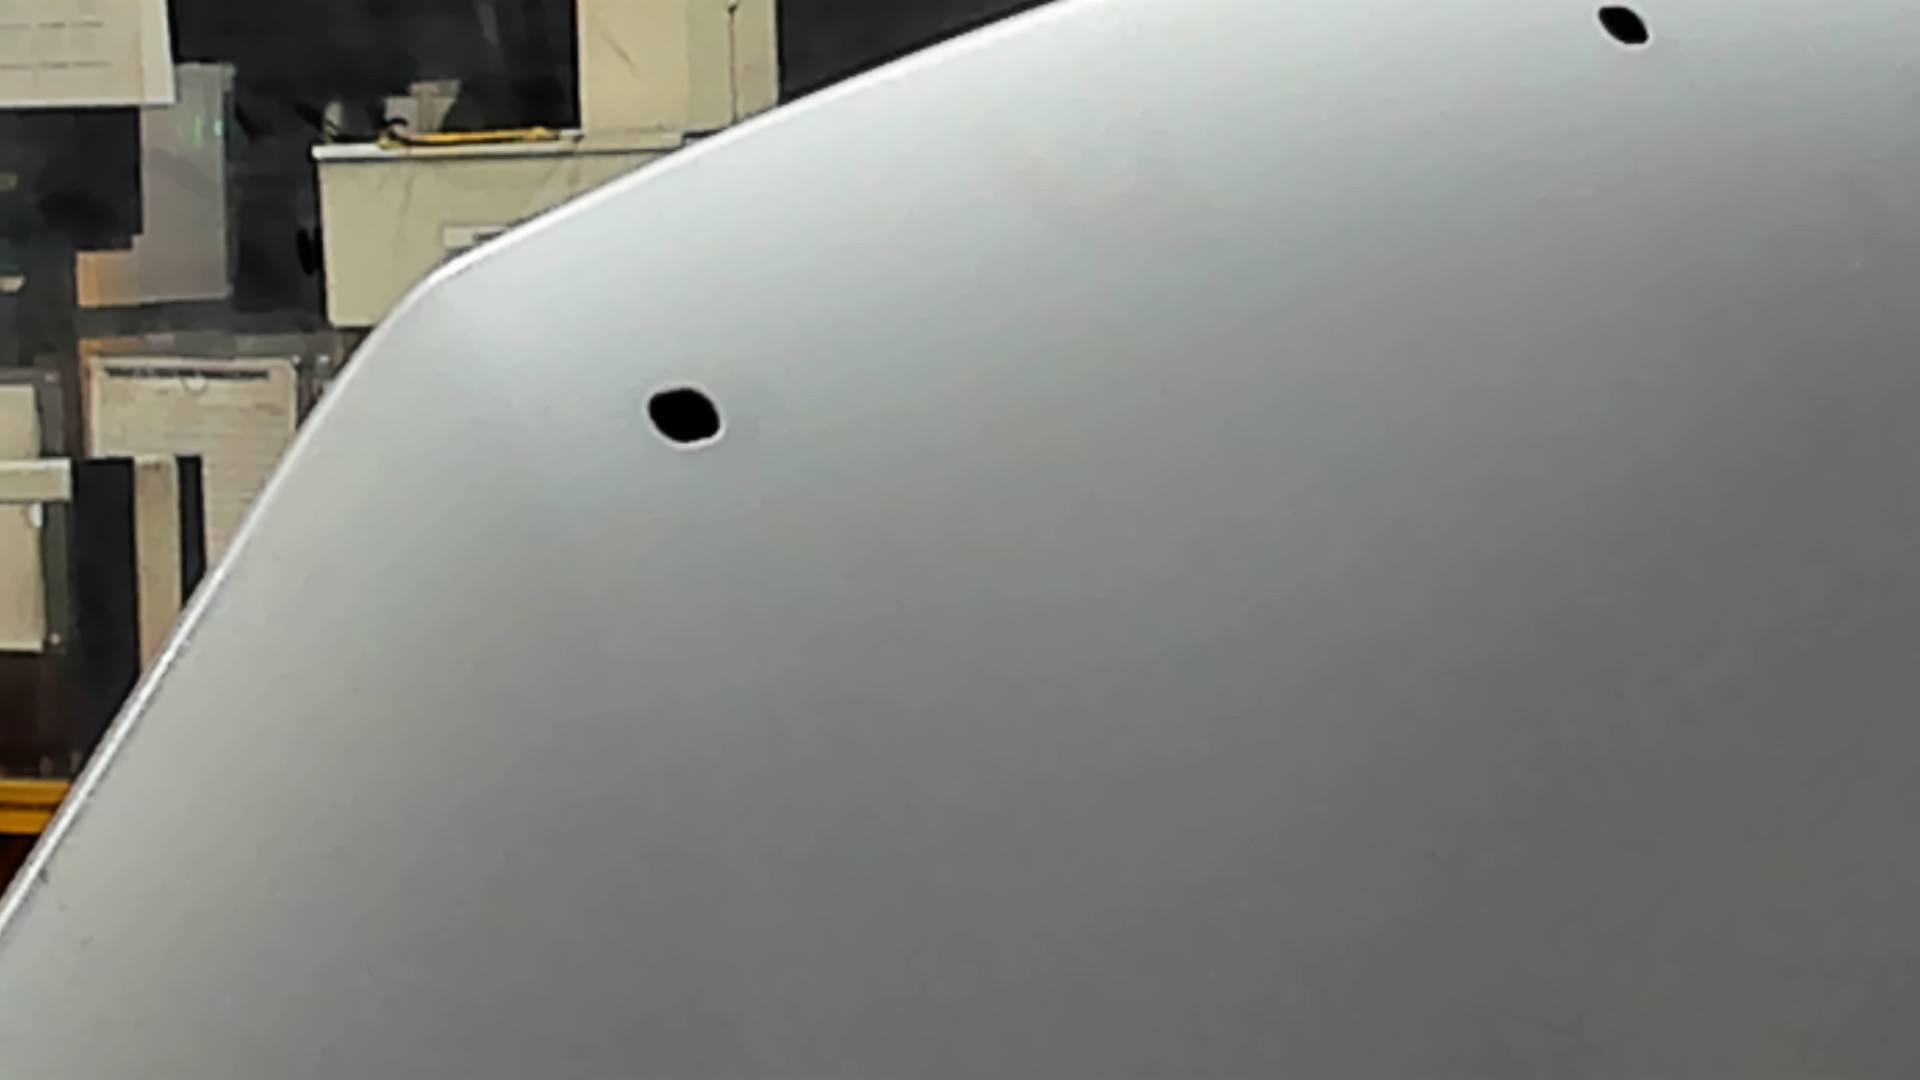Agujero: (638, 382, 728, 452), (1588, 1, 1658, 55)
